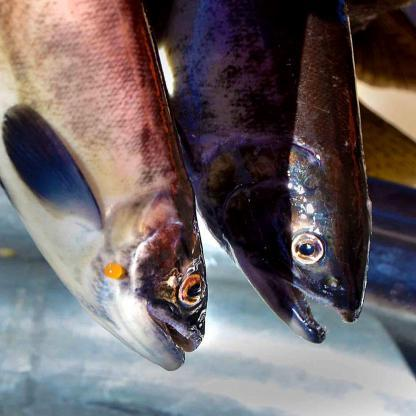fish: (0, 0, 211, 376), (158, 0, 378, 348)
